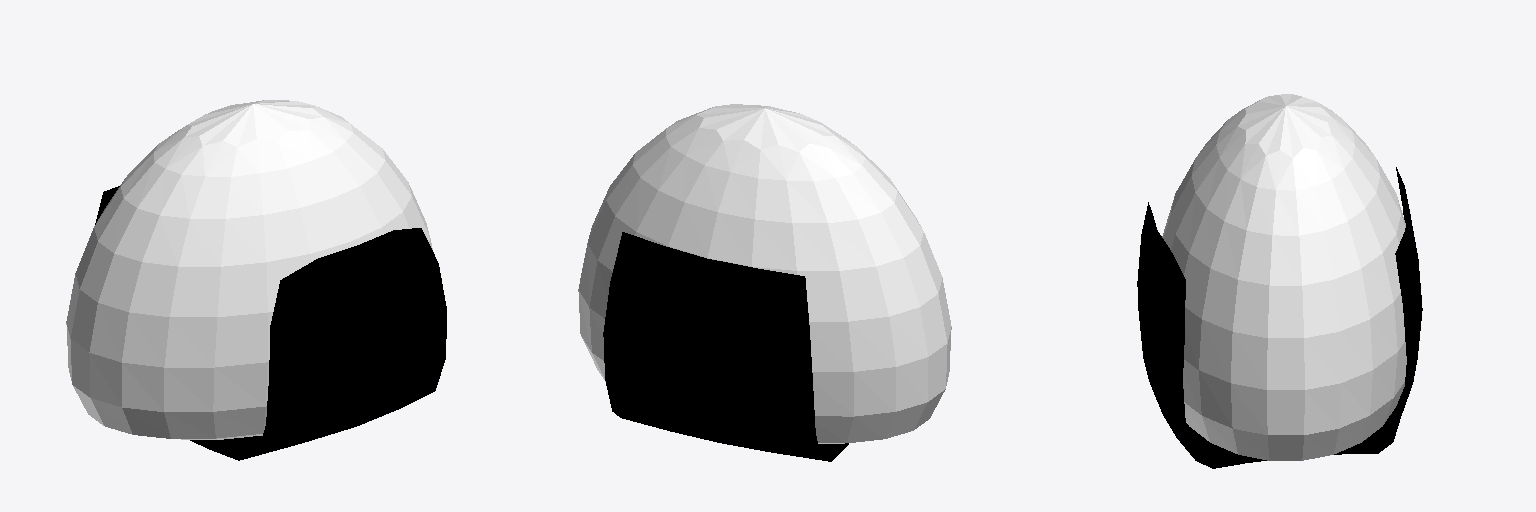
The model's file is onigiri.obj.
3 views of the same model, side by side, from view 1: azimuth 30°, elevation 25°; view 2: azimuth 150°, elevation 25°; view 3: azimuth 270°, elevation 25° (orthographic).
Visible parts, largest first — view 1: 球.001; view 2: 球.001; view 3: 球.001.
Boxes of the visible parts, x1,y1,x2,y2 form: 球.001: [66, 100, 446, 460]; 球.001: [578, 104, 951, 461]; 球.001: [1137, 94, 1422, 468].
Size of the model in its own units: 1.88 by 1.56 by 1.34.